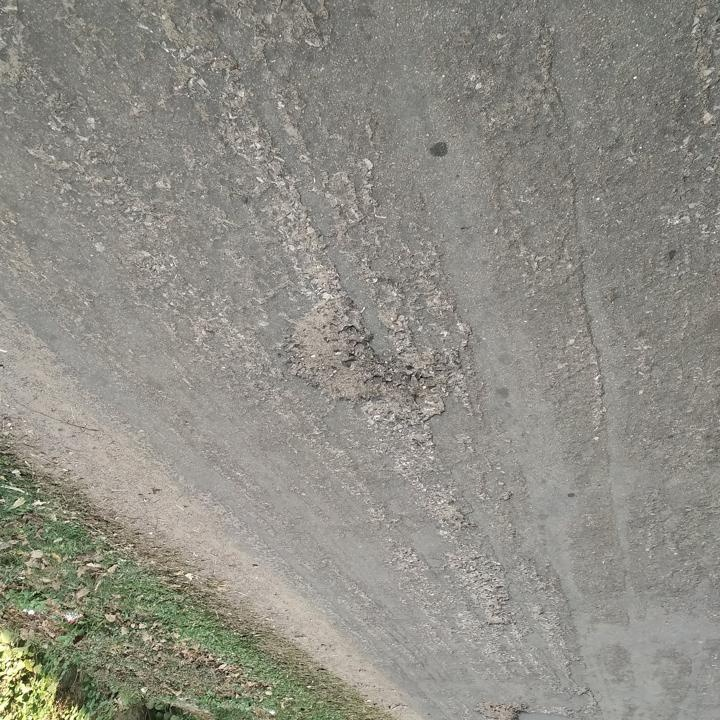pothole: (284, 293, 393, 407)
